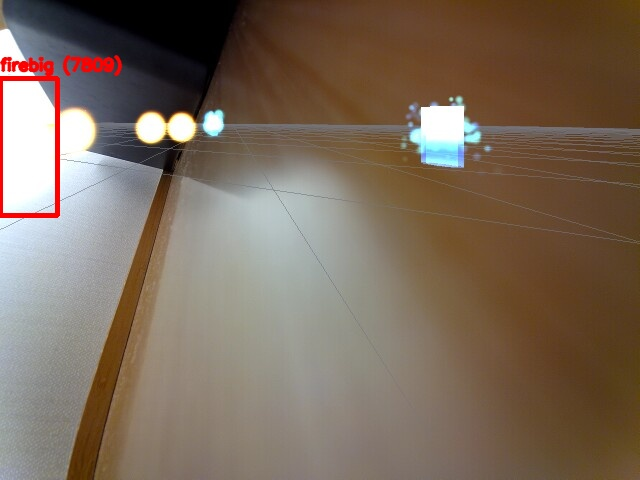firebig: (0, 78, 57, 215)
